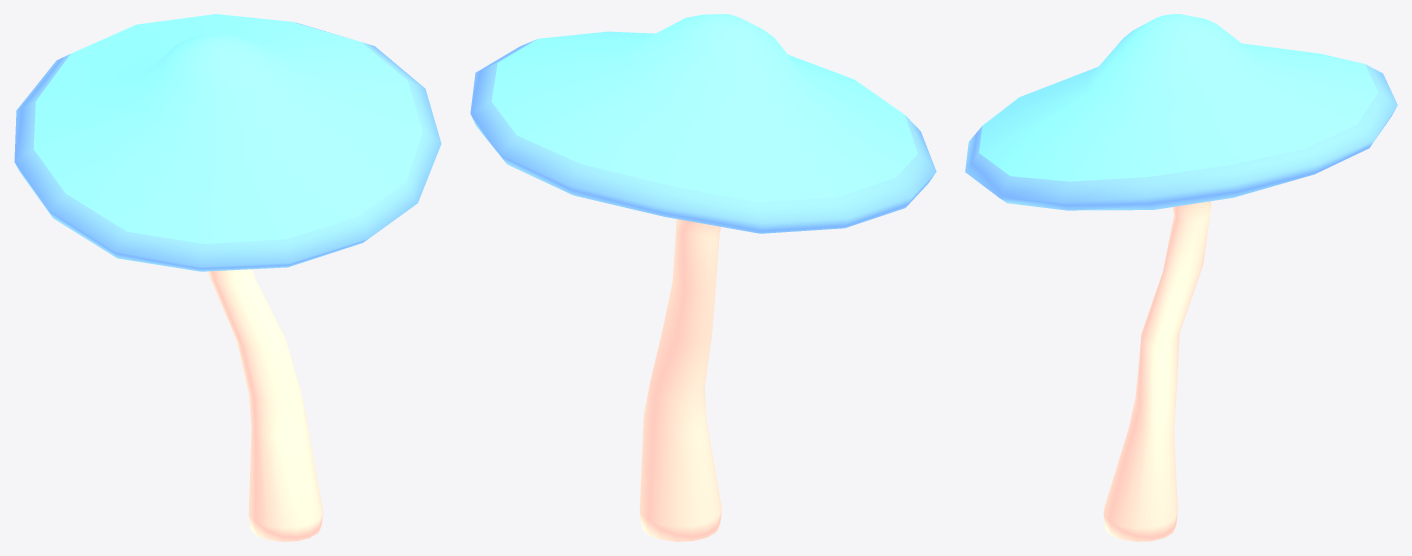
The model's file is cogumelo_G5.fbx.
The picture shows the model from 3 angles, left to right: view 1: azimuth 30°, elevation 25°; view 2: azimuth 150°, elevation 25°; view 3: azimuth 270°, elevation 25°; orthographic projection. The views are drawn at different scales.
Visible parts, largest first — view 1: cogu_G5; view 2: cogu_G5; view 3: cogu_G5.
Boxes of the visible parts, x1,y1,x2,y2 form: cogu_G5: (14,14,441,541); cogu_G5: (470,14,936,541); cogu_G5: (965,14,1397,541).
Size of the model in its own units: 1712 by 1760 by 2166.
